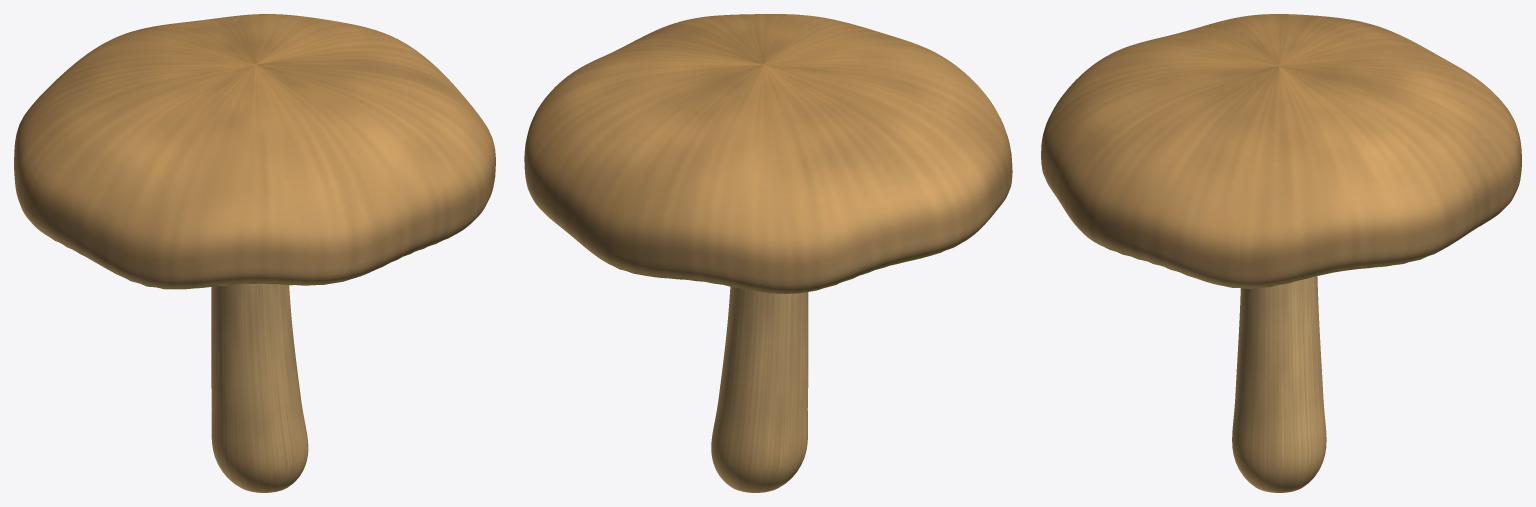
The model's file is suillus-bovinus-drawn.glb.
3 views of the same model, side by side, from view 1: azimuth 30°, elevation 25°; view 2: azimuth 150°, elevation 25°; view 3: azimuth 270°, elevation 25° (orthographic).
Bounding box in the file's own units: 0.8297 × 0.7903 × 0.8304.
Materials: 1 (1 with a texture image).
